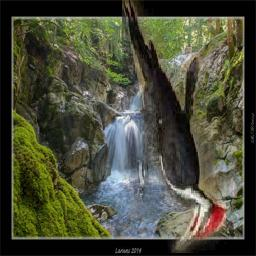Woodpecker: (122, 1, 226, 254)
